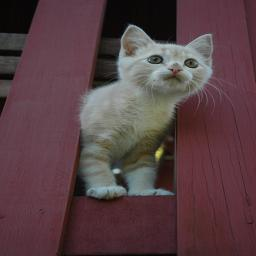catnose: (167, 67, 184, 74)
